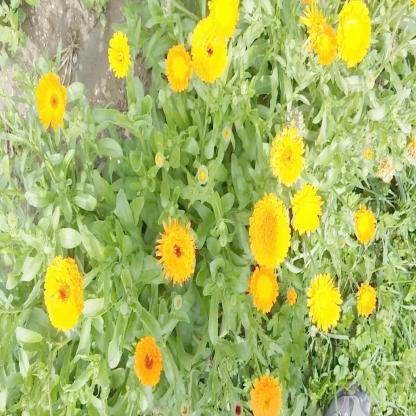marigold: (252, 193, 290, 271), (45, 258, 82, 331), (190, 16, 228, 84), (157, 218, 194, 283), (336, 0, 371, 68), (271, 124, 306, 185), (309, 272, 341, 332), (37, 74, 65, 128), (292, 180, 321, 231), (134, 334, 160, 388), (252, 375, 282, 415), (252, 265, 276, 312), (168, 48, 193, 93), (107, 30, 130, 76), (210, 0, 238, 34), (316, 25, 337, 65), (354, 207, 376, 245), (356, 283, 376, 318)
